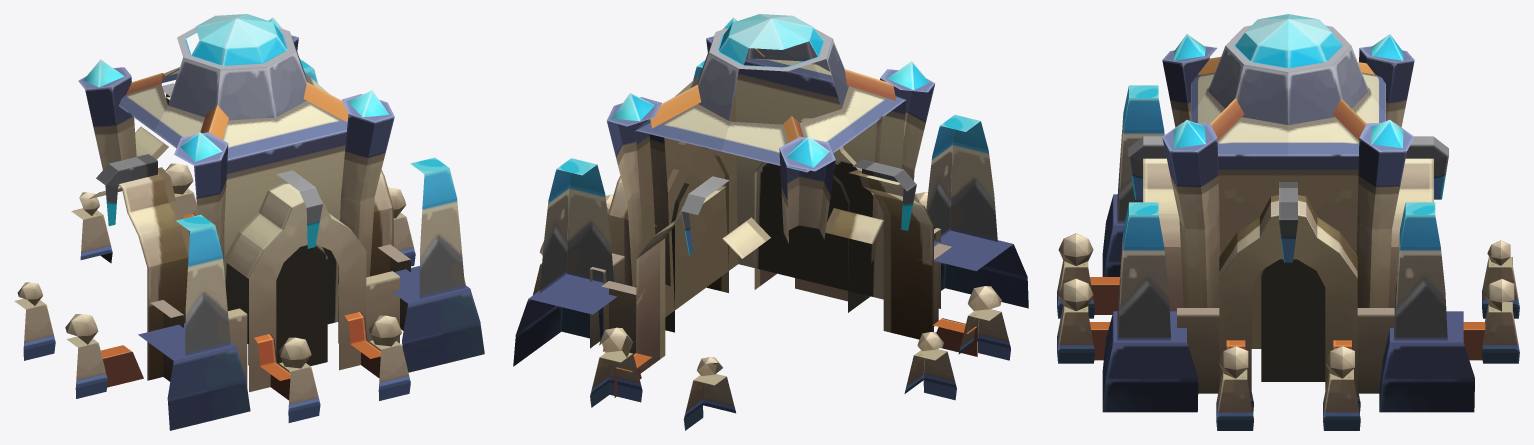
File: B_Cityhall03.fbx
3 views of the same model, side by side, from view 1: azimuth 30°, elevation 25°; view 2: azimuth 150°, elevation 25°; view 3: azimuth 270°, elevation 25° (orthographic). The views are drawn at different scales.
Parts seen in each view (by area): view 1: B_Cityhall03_01; view 2: B_Cityhall03_01; view 3: B_Cityhall03_01.
Boxes of the visible parts, x1,y1,x2,y2 form: B_Cityhall03_01: [14, 14, 484, 430]; B_Cityhall03_01: [513, 14, 1028, 430]; B_Cityhall03_01: [1057, 14, 1519, 430].
Size of the model in its own units: 8.25 by 6.18 by 8.25.
1 material, 1 textured.
